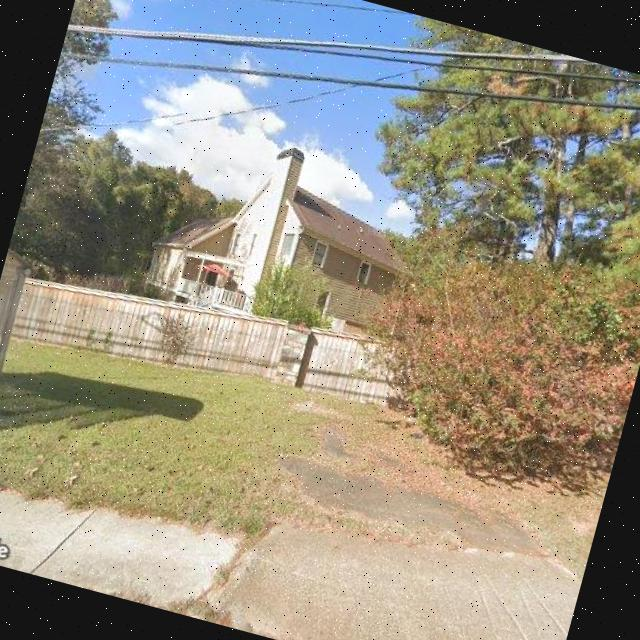shelter: (0, 247, 40, 429)
